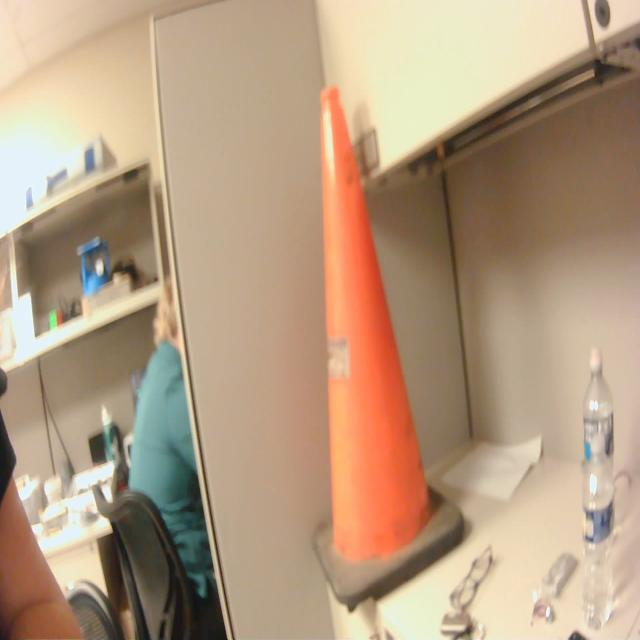traffic cone: (309, 80, 473, 618)
